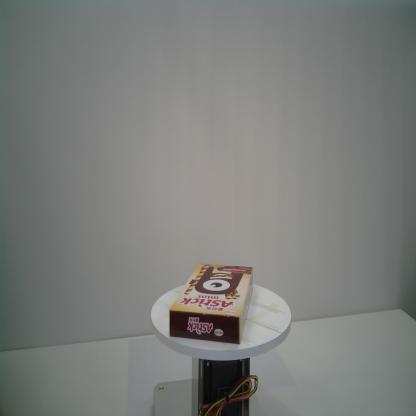Dessert: (167, 261, 256, 346)
